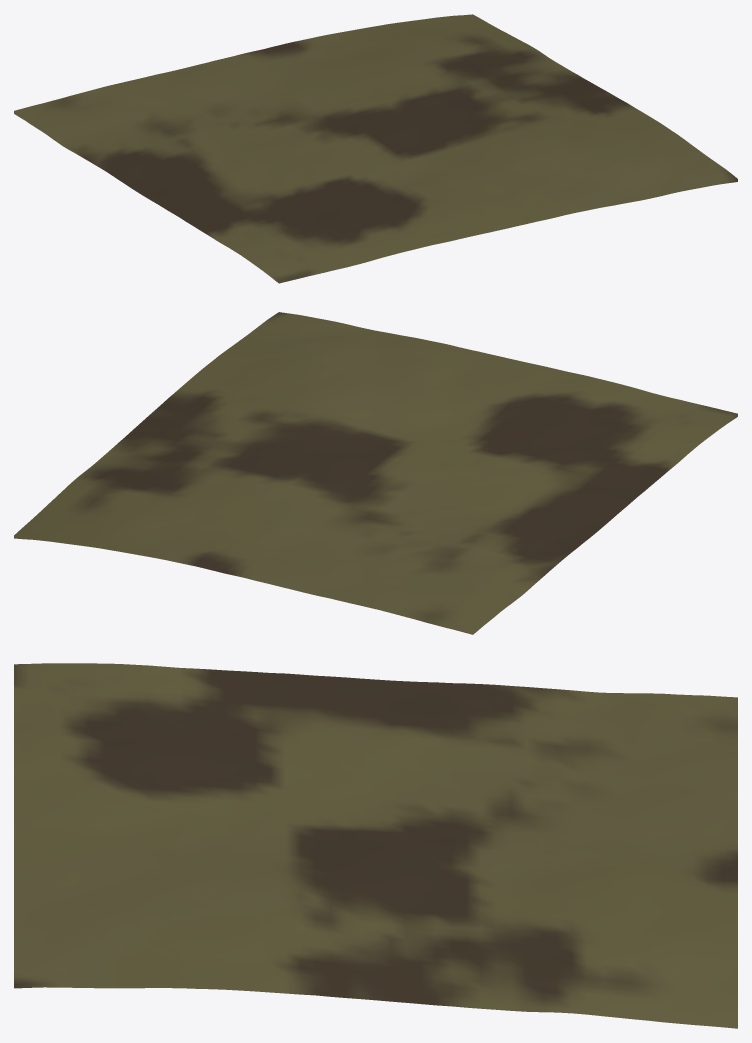
File: land_m_05_10.glb
3 views of the same model, one above another, from view 1: azimuth 30°, elevation 25°; view 2: azimuth 150°, elevation 25°; view 3: azimuth 270°, elevation 25° (orthographic). The views are drawn at different scales.
Visible parts, largest first — view 1: land_m_05_10; view 2: land_m_05_10; view 3: land_m_05_10.
Boxes of the visible parts, x1=… form: land_m_05_10: x1=14, y1=14, x2=737, y2=283; land_m_05_10: x1=14, y1=312, x2=737, y2=634; land_m_05_10: x1=14, y1=663, x2=737, y2=1028.
Size of the model in its own units: 960 by 87.99 by 960.
